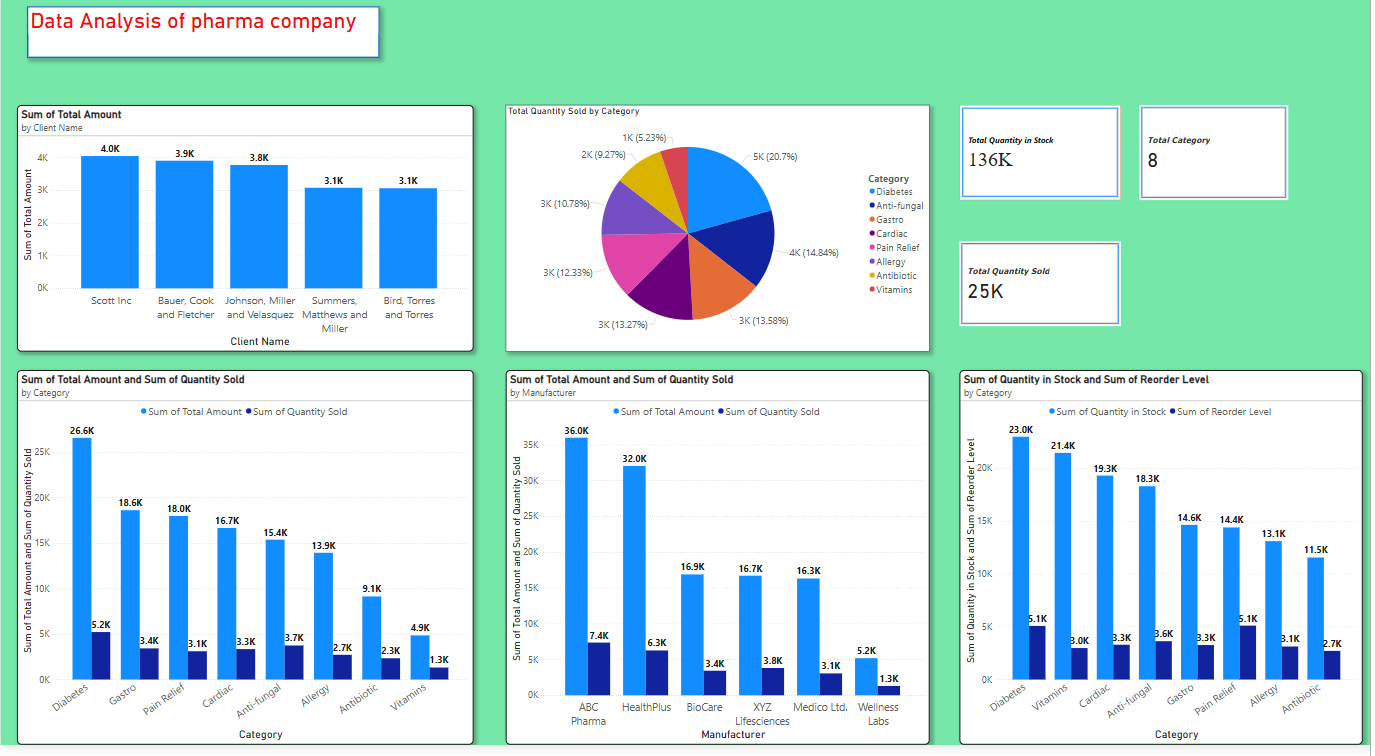

The page's visual inventory and layout, read from the dashboard file:
{"tool":"powerbi","page":{"name":"Page 3","canvas":[4000,2000],"ordinal":2},"visuals":[{"type":"clusteredColumnChart","fields":{"Category":["Sales.Client Name"],"Y":["Sales.Total Amount"]},"box":[43.6,294.3,1217.3,657.7],"z":0},{"type":"pieChart","fields":{"Category":["Product_Catalog.Category"],"Y":["Sales.Quantity Sold"]},"box":[1348.1,294.3,1130.1,657.7],"z":1000},{"type":"clusteredColumnChart","fields":{"Category":["Product_Catalog.Manufacturer"],"Y":["Sales.Total Amount","Sales.Quantity Sold"]},"box":[1348.1,999.3,1130.1,999.3],"z":2000},{"type":"clusteredColumnChart","fields":{"Category":["Product_Catalog.Category"],"Y":["Sales.Total Amount","Sales.Quantity Sold"]},"box":[43.6,999.3,1217.3,999.3],"z":3000},{"type":"clusteredColumnChart","fields":{"Y":["Inventory.Quantity in Stock","Inventory.Reorder Level"],"Category":["Product_Catalog.Category"]},"box":[2558.1,999.3,1075.6,999.3],"z":4000},{"type":"cardVisual","fields":{"Data":["Inventory.Quantity in Stock"]},"box":[2556.7,293.3,430,253.3],"z":5000},{"type":"cardVisual","fields":{"Data":["Product_Catalog.Total Category"]},"box":[3036.7,320,396.7,226.7],"z":6000},{"type":"cardVisual","fields":{"Data":["Sales.Quantity Sold"]},"box":[2556.7,656.7,430,226.7],"z":7000},{"type":"textbox","title":"Data  Analysis of pharma company","box":[69,29.1,941.1,138.1],"z":8000}]}

Visuals, with their boxes on the page's 4000x2000 design canvas (x1, y1, x2, y2). These are canvas units, not pixel positions in the 1375x756 screenshot, which may show the page scaled, cropped or inside an application window:
clusteredColumnChart - Sales.Client Name x Sales.Total Amount: select_region(44, 294, 1261, 952)
pieChart - Product_Catalog.Category x Sales.Quantity Sold: select_region(1348, 294, 2478, 952)
clusteredColumnChart - Product_Catalog.Manufacturer x Sales.Total Amount: select_region(1348, 999, 2478, 1999)
clusteredColumnChart - Product_Catalog.Category x Sales.Total Amount: select_region(44, 999, 1261, 1999)
clusteredColumnChart - Inventory.Quantity in Stock x Inventory.Reorder Level: select_region(2558, 999, 3634, 1999)
cardVisual - Inventory.Quantity in Stock: select_region(2557, 293, 2987, 547)
cardVisual - Product_Catalog.Total Category: select_region(3037, 320, 3433, 547)
cardVisual - Sales.Quantity Sold: select_region(2557, 657, 2987, 883)
"Data  Analysis of pharma company" textbox: select_region(69, 29, 1010, 167)
